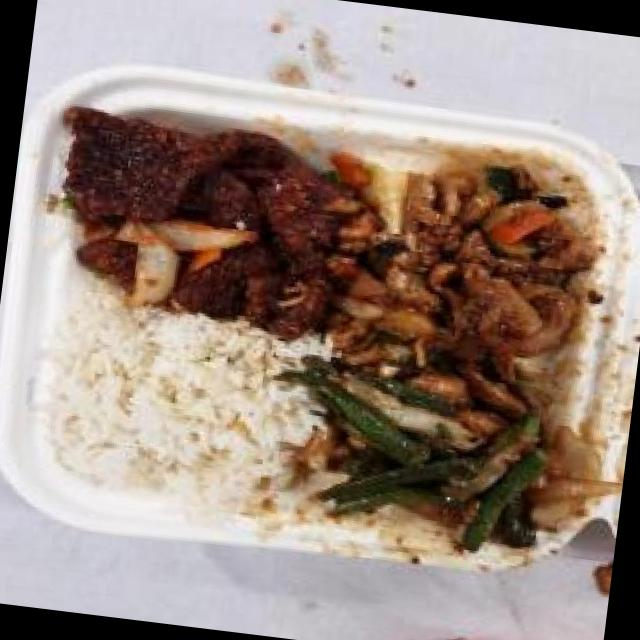Beijing Beef: (40, 92, 366, 332)
Kung Pao Chicken: (320, 137, 616, 396)
String Bean Chicken Breast: (308, 348, 580, 554)
White Steamed Rice: (34, 301, 316, 524)
